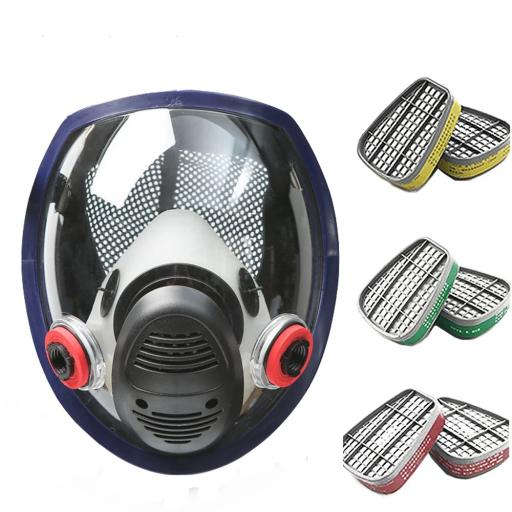mask: (3, 148, 337, 460)
